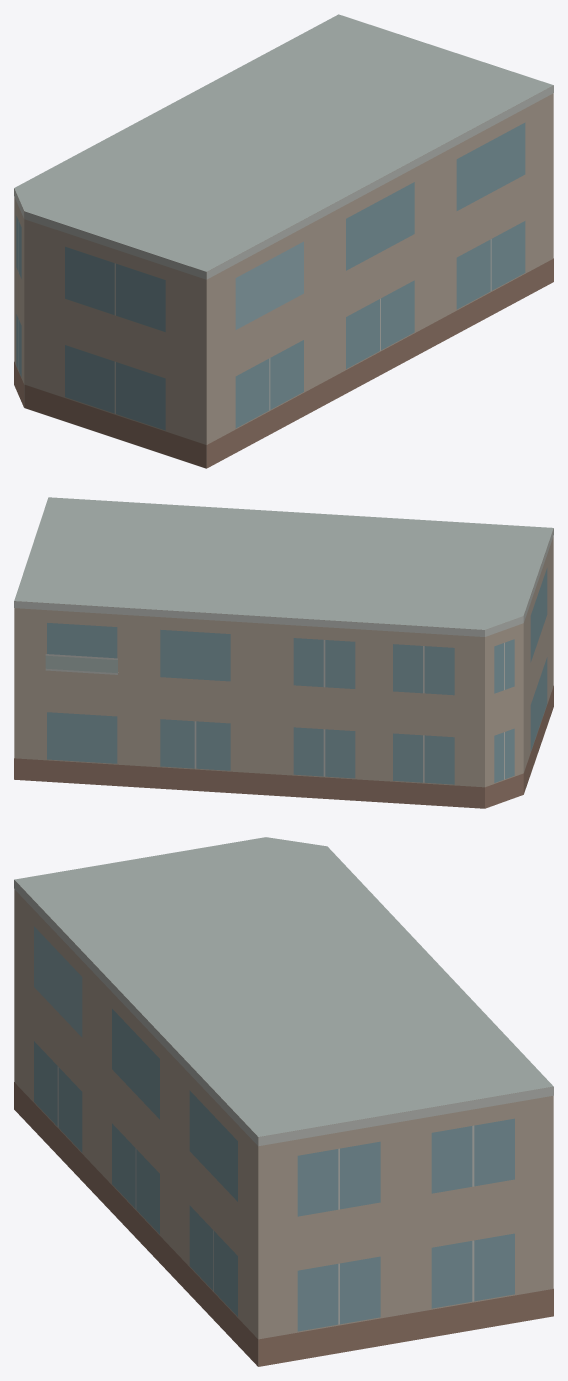
The model's file is survey-upis-32852108.glb.
3 renders of one model, top to bottom at view 1: azimuth 30°, elevation 25°; view 2: azimuth 150°, elevation 25°; view 3: azimuth 270°, elevation 25°, orthographic. The views are drawn at different scales.
Parts seen in each view (by area): view 1: survey-upis-32852108.tmp; view 2: survey-upis-32852108.tmp; view 3: survey-upis-32852108.tmp.
Part boxes in pixels (bbox=[...]): survey-upis-32852108.tmp: bbox=[14, 14, 553, 468]; survey-upis-32852108.tmp: bbox=[14, 497, 553, 808]; survey-upis-32852108.tmp: bbox=[14, 837, 553, 1366].
Bounding box in the file's own units: 17.09 × 6.1 × 12.99.
